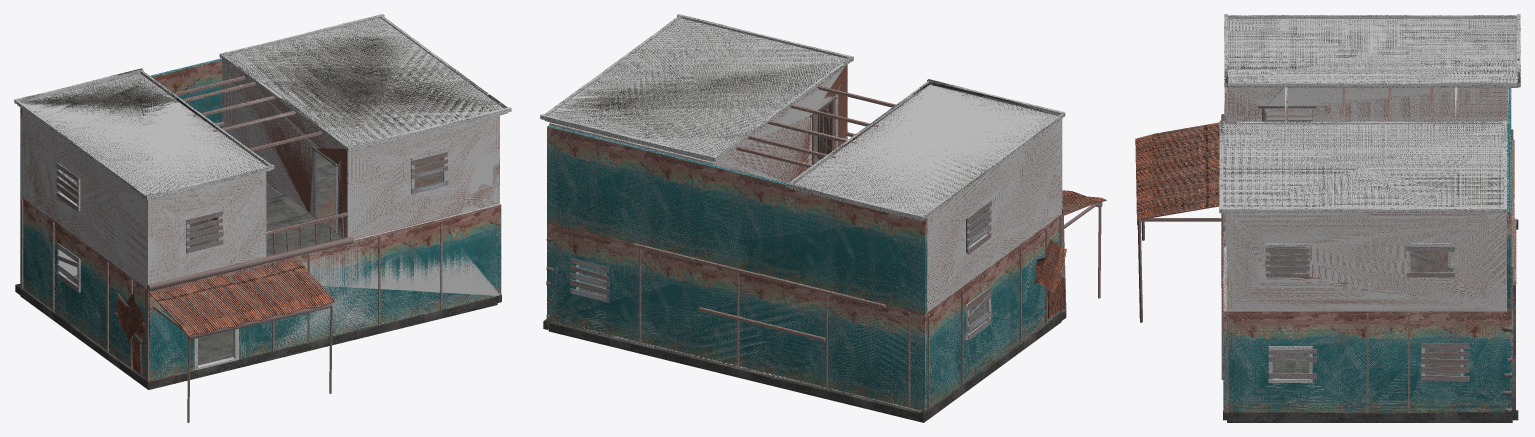
The model's file is Building 1.fbx.
3 renders of one model, left to right at view 1: azimuth 30°, elevation 25°; view 2: azimuth 150°, elevation 25°; view 3: azimuth 270°, elevation 25°, orthographic. The views are drawn at different scales.
Parts seen in each view (by area): view 1: Group1; view 2: Group1; view 3: Group1.
Part boxes in pixels (x1,y1,x2,y2): Group1: (14, 14, 511, 422); Group1: (540, 14, 1106, 422); Group1: (1135, 14, 1520, 422).
Bounding box in the file's own units: 575 × 309 × 468.
